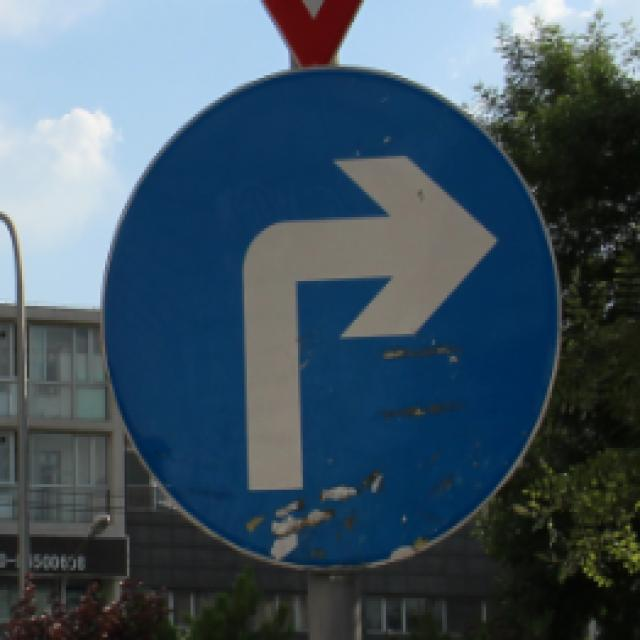right: (96, 64, 554, 564)
